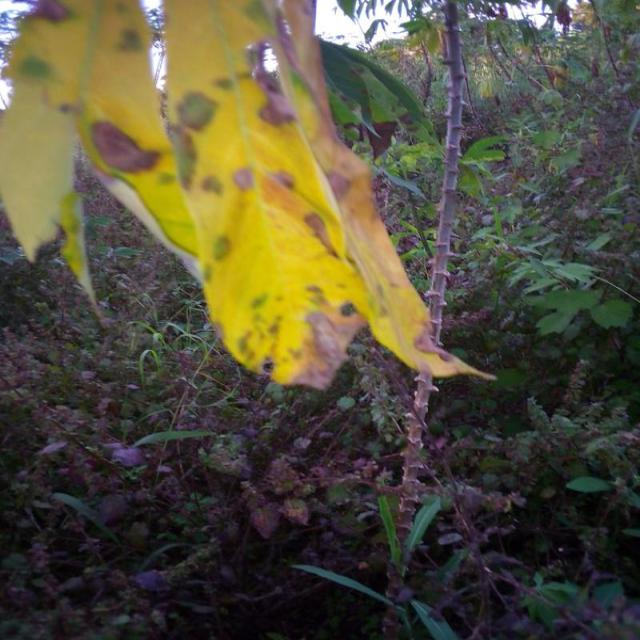cassava leaf: (2, 0, 499, 393)
